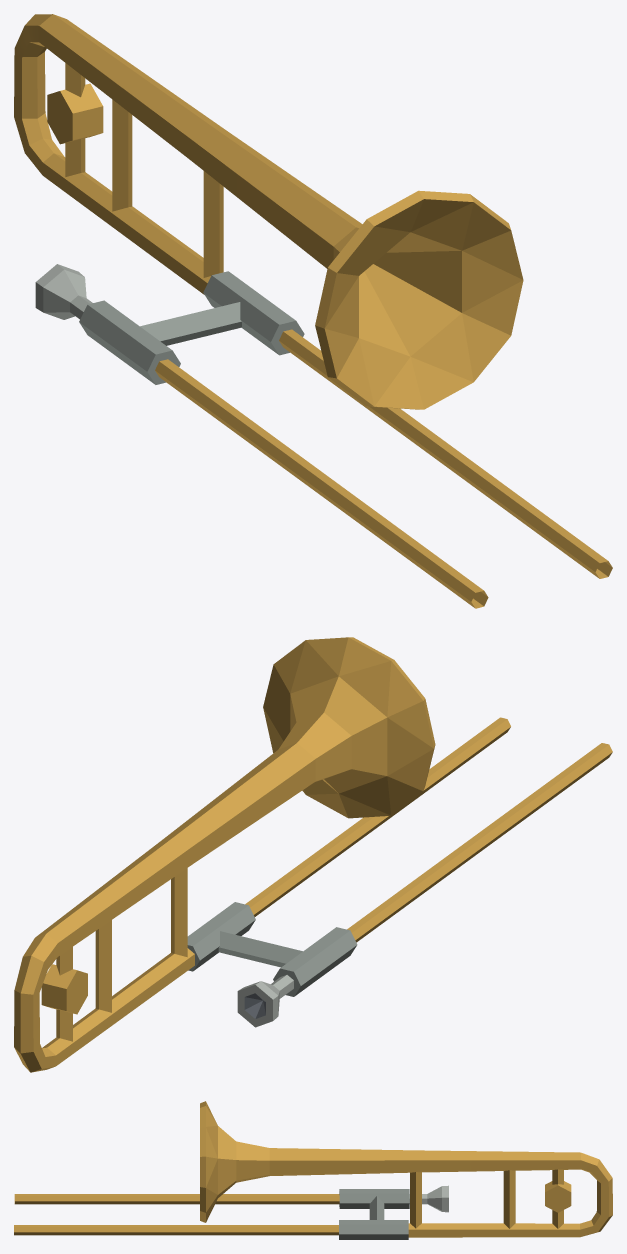
File: SM_Prop_Music_Trombone_01.obj
3 renders of one model, top to bottom at view 1: azimuth 30°, elevation 25°; view 2: azimuth 150°, elevation 25°; view 3: azimuth 270°, elevation 25°, orthographic. The views are drawn at different scales.
Parts seen in each view (by area): view 1: SM_Prop_Music_Trombone_01_0; view 2: SM_Prop_Music_Trombone_01_0; view 3: SM_Prop_Music_Trombone_01_0.
Part boxes in pixels (<box>): SM_Prop_Music_Trombone_01_0: <box>14,14,612,608</box>; SM_Prop_Music_Trombone_01_0: <box>14,637,612,1072</box>; SM_Prop_Music_Trombone_01_0: <box>14,1101,612,1239</box>.
Bounding box in the file's own units: 0.2434 × 0.2503 × 0.9876.
1 material, 1 textured.
